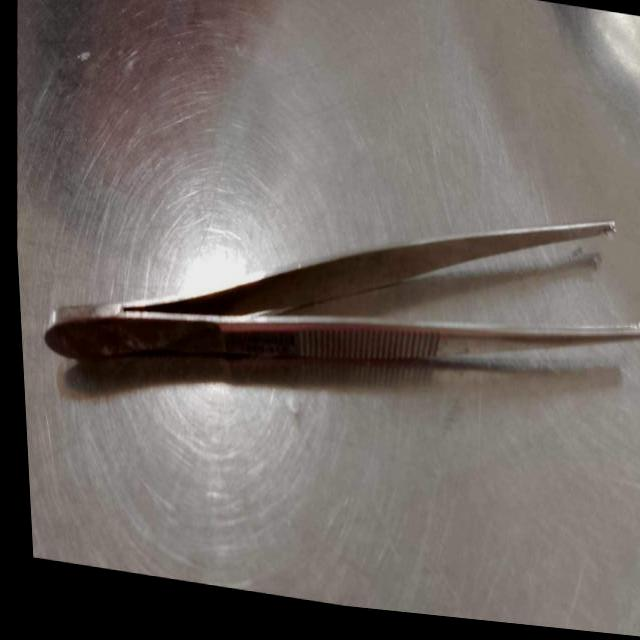General: (17, 0, 640, 637), (42, 214, 640, 396)
Sharps: (120, 218, 618, 317), (44, 315, 640, 361)
